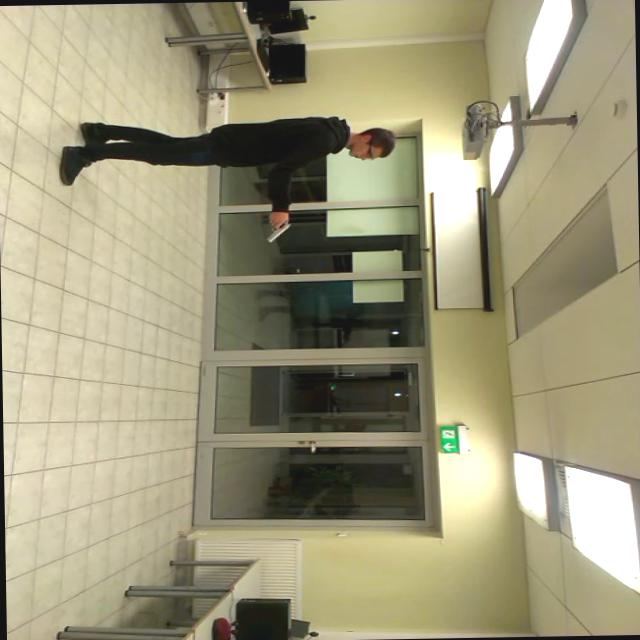handgun: (252, 213, 298, 247)
